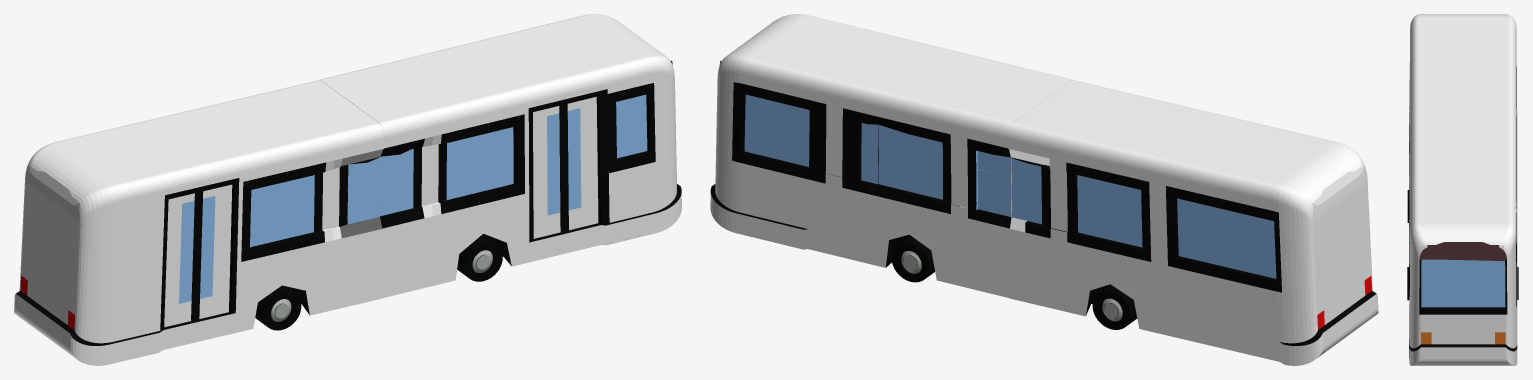
The model's file is ExportedBlenderFBXFile.fbx.
3 renders of one model, left to right at view 1: azimuth 30°, elevation 25°; view 2: azimuth 150°, elevation 25°; view 3: azimuth 270°, elevation 25°, orthographic. The views are drawn at different scales.
Visible parts, largest first — view 1: Camion; view 2: Camion; view 3: Camion.
Part boxes in pixels (x1=…): Camion: x1=14, y1=14, x2=681, y2=365; Camion: x1=710, y1=14, x2=1378, y2=365; Camion: x1=1407, y1=14, x2=1518, y2=365.
Bounding box in the file's own units: 9.92 × 2.79 × 1.99.
